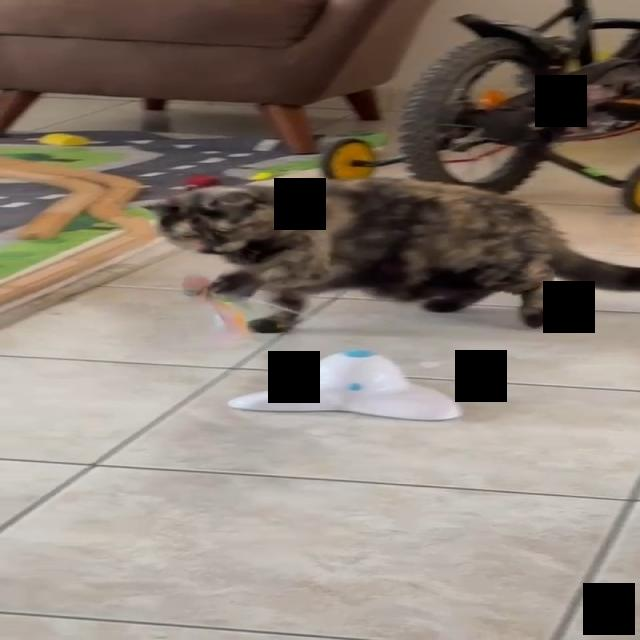authorized: (136, 176, 639, 333)
